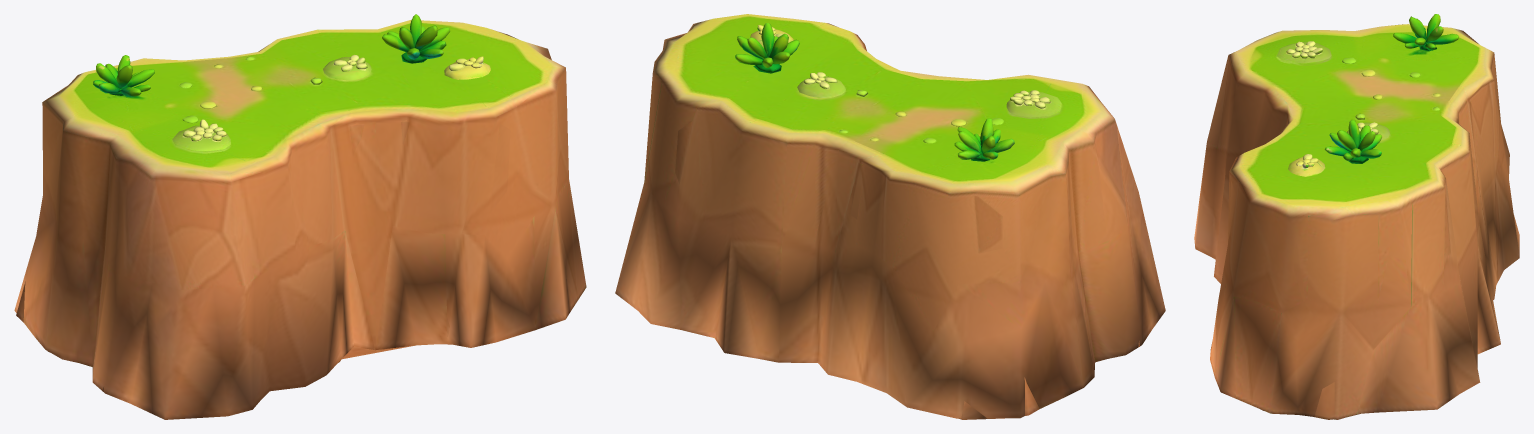
Rendered from r3c1_outer_cliff_corner.glb.
3 views of the same model, side by side, from view 1: azimuth 30°, elevation 25°; view 2: azimuth 150°, elevation 25°; view 3: azimuth 270°, elevation 25° (orthographic). The views are drawn at different scales.
Bounding box in the file's own units: 1 × 0.5215 × 0.6523.
Materials: 1 (1 with a texture image).
